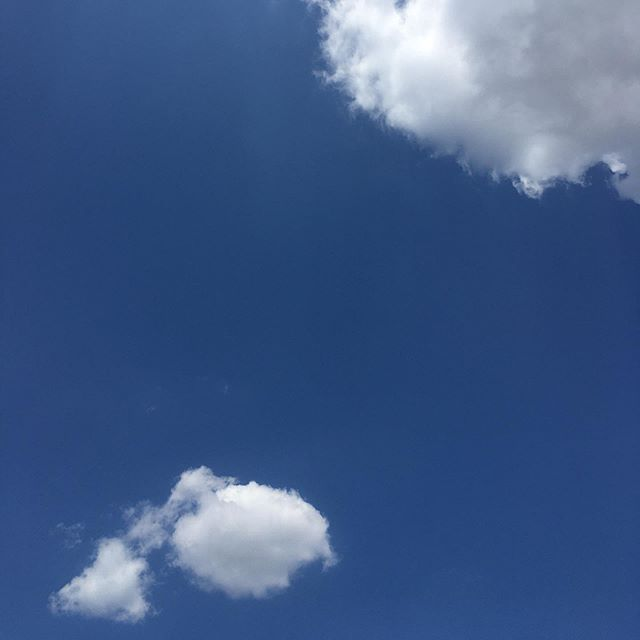sky: (1, 1, 634, 635)
